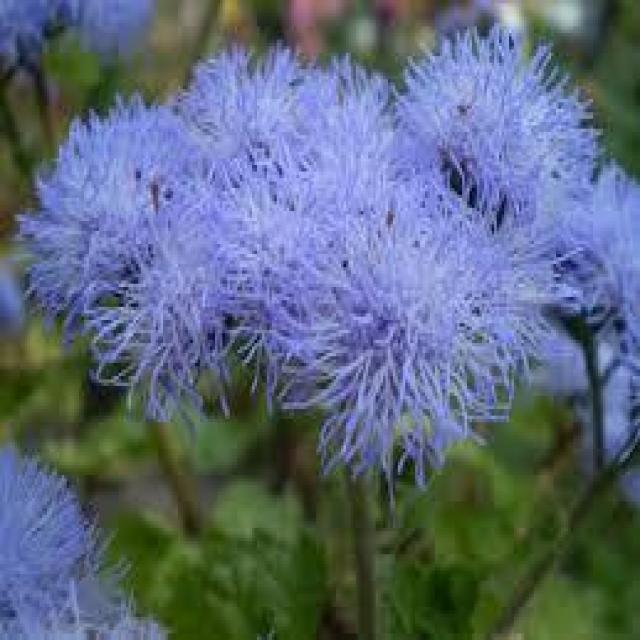organic waste: (23, 43, 594, 495)
